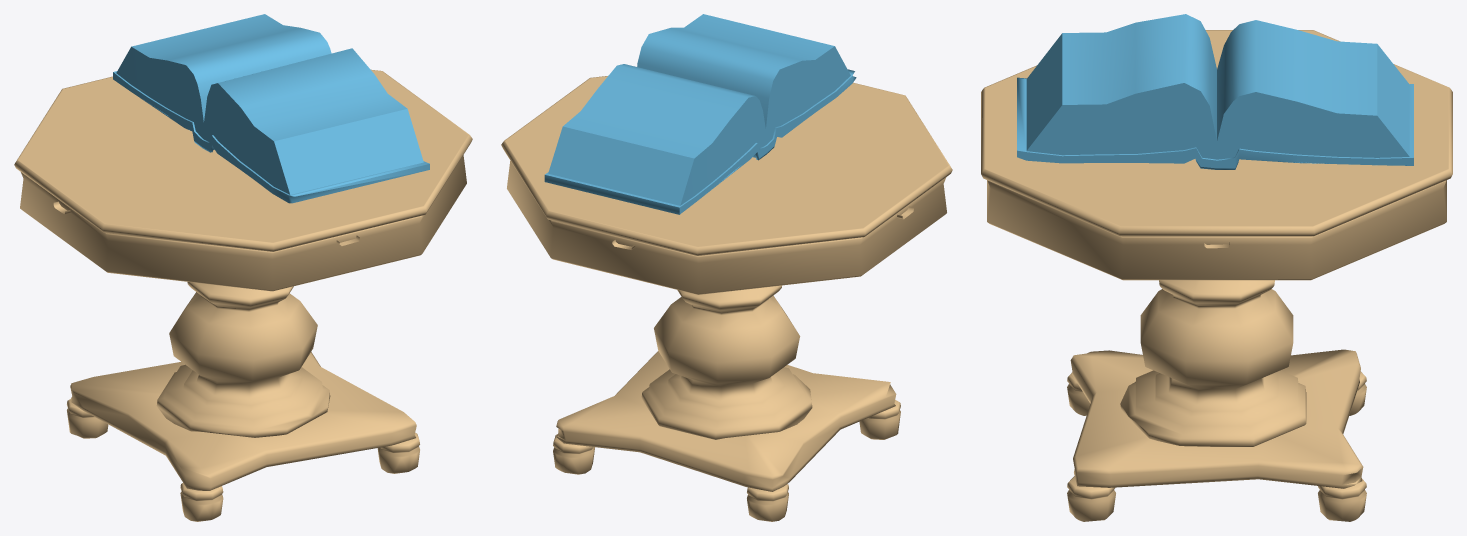
The model's file is stol i knjiga.fbx.
3 renders of one model, left to right at view 1: azimuth 30°, elevation 25°; view 2: azimuth 150°, elevation 25°; view 3: azimuth 270°, elevation 25°, orthographic. The views are drawn at different scales.
Parts seen in each view (by area): view 1: Table.001_Cylinder.006, BookOpen_LP.001; view 2: Table.001_Cylinder.006, BookOpen_LP.001; view 3: Table.001_Cylinder.006, BookOpen_LP.001.
Part boxes in pixels (x1,y1,x2,y2): Table.001_Cylinder.006: (14,69,472,521); BookOpen_LP.001: (113,14,429,203); Table.001_Cylinder.006: (501,76,952,521); BookOpen_LP.001: (544,14,856,214); Table.001_Cylinder.006: (981,30,1452,521); BookOpen_LP.001: (1017,14,1413,169).
Size of the model in its own units: 833 by 837 by 833.
